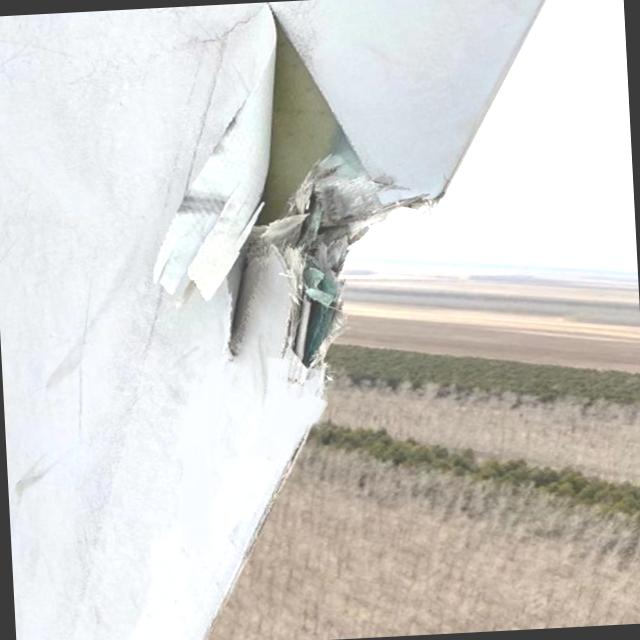crack: (137, 0, 452, 403)
